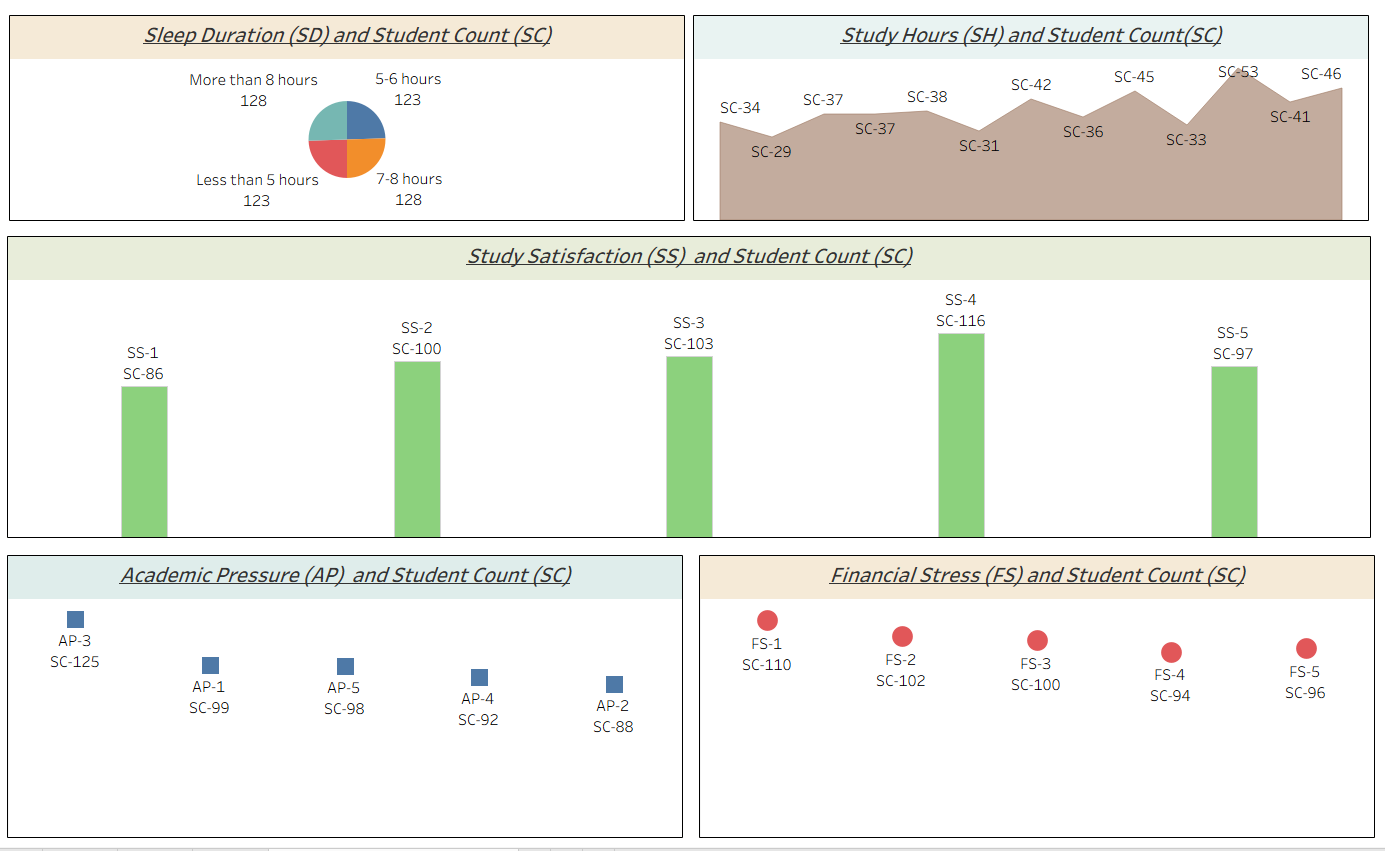

What the dashboard file says about the page in this screenshot:
{"tool":"tableau","page":{"name":"Student Count Analysis Dashboard","canvas":[1000,1000],"units":"permille","ordinal":0},"visuals":[{"type":"worksheet","title":"SD & SC","mark":"Pie","box":[9.7,22.3,408,242.1]},{"type":"worksheet","title":"SH & SC","mark":"Area","rows":["Index_Column"],"cols":["Study_Hours"],"box":[422.4,22.3,408,242.1]},{"type":"worksheet","title":"SS & SC","mark":"Automatic","rows":["Index_Column"],"cols":["Study_Satisfaction"],"box":[8.4,282,823.2,354.9]},{"type":"worksheet","title":"AP & SC","mark":"Square","rows":["Index_Column"],"cols":["Academic_Pressure"],"box":[8.4,656.9,408,332.6]},{"type":"worksheet","title":"FS & SC","mark":"Circle","rows":["Index_Column"],"cols":["Financial_Stress"],"box":[426.1,656.9,408,332.6]}]}

Visuals, with their boxes on the dashboard's canvas, which has no fixed pixel size, in thousandths of its width and height (x1, y1, x2, y2). These are canvas units, not pixel positions in the 1385x851 screenshot, which may show the page scaled, cropped or inside an application window:
"SD & SC" worksheet (Pie marks): 10, 22, 418, 264
"SH & SC" worksheet (Area marks): 422, 22, 830, 264
"SS & SC" worksheet: 8, 282, 832, 637
"AP & SC" worksheet (Square marks): 8, 657, 416, 990
"FS & SC" worksheet (Circle marks): 426, 657, 834, 990
